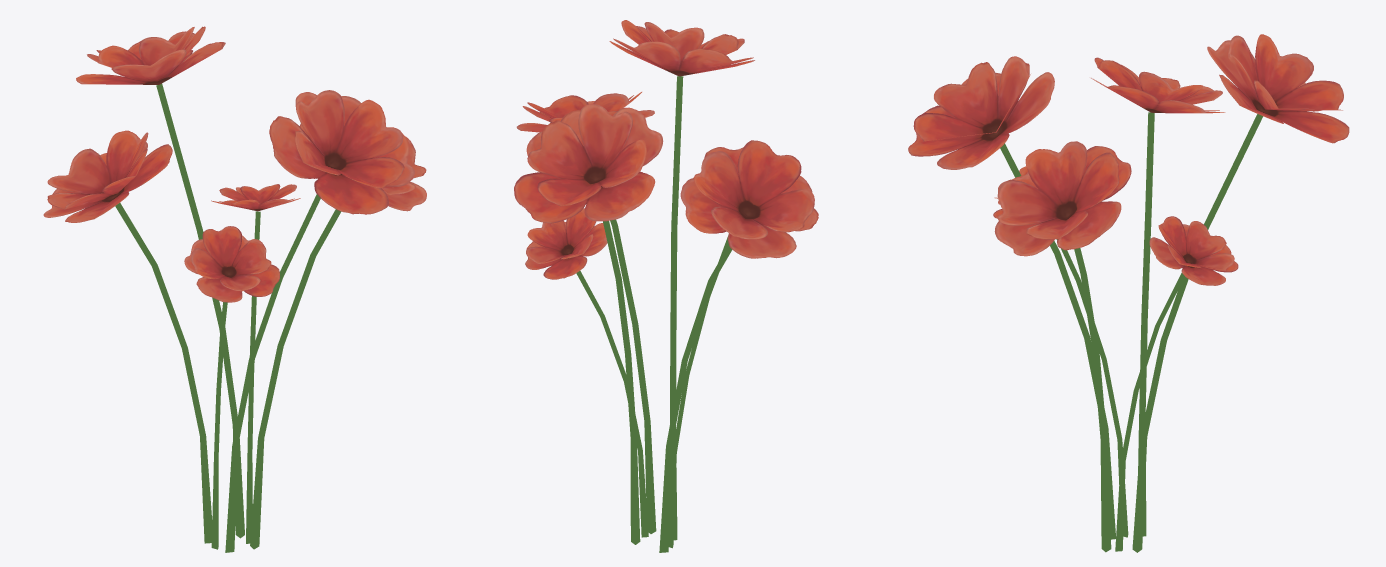
The model's file is MEADOW_SM_Flower_01_02.gltf.
3 renders of one model, left to right at view 1: azimuth 30°, elevation 25°; view 2: azimuth 150°, elevation 25°; view 3: azimuth 270°, elevation 25°, orthographic. The views are drawn at different scales.
Parts seen in each view (by area): view 1: SM_Flower_01_02_LOD0; view 2: SM_Flower_01_02_LOD0; view 3: SM_Flower_01_02_LOD0.
Boxes of the visible parts, left/top/right/bottom form: SM_Flower_01_02_LOD0: left=43, top=26, right=426, bottom=552; SM_Flower_01_02_LOD0: left=514, top=20, right=818, bottom=552; SM_Flower_01_02_LOD0: left=908, top=34, right=1349, bottom=552.
Size of the model in its own units: 0.5725 by 0.7223 by 0.6232.
Materials: 1 (1 with a texture image).
